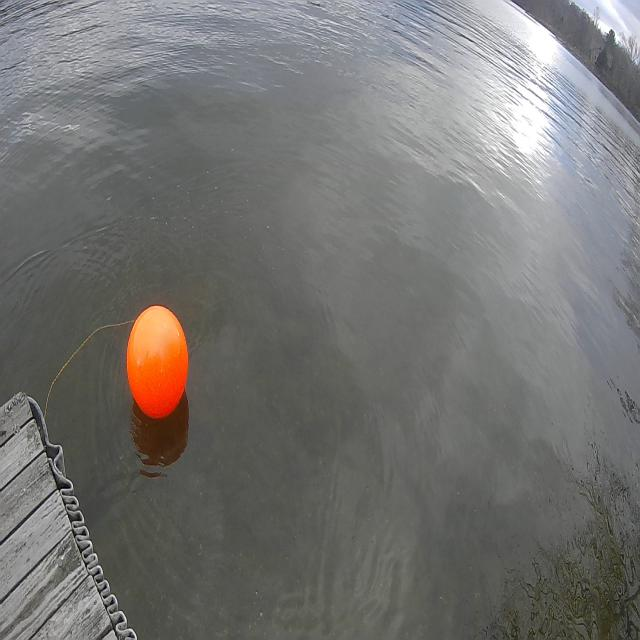Buoy: (123, 299, 192, 428)
